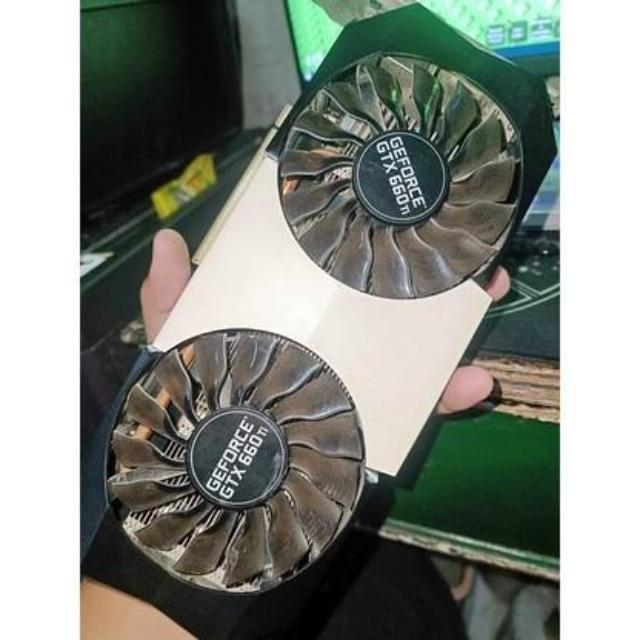GPU: (87, 0, 559, 640)
